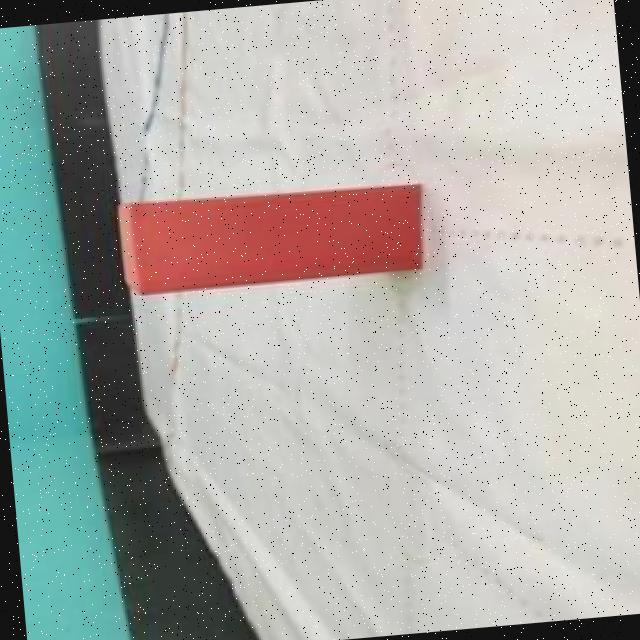redbox: (122, 181, 426, 294)
